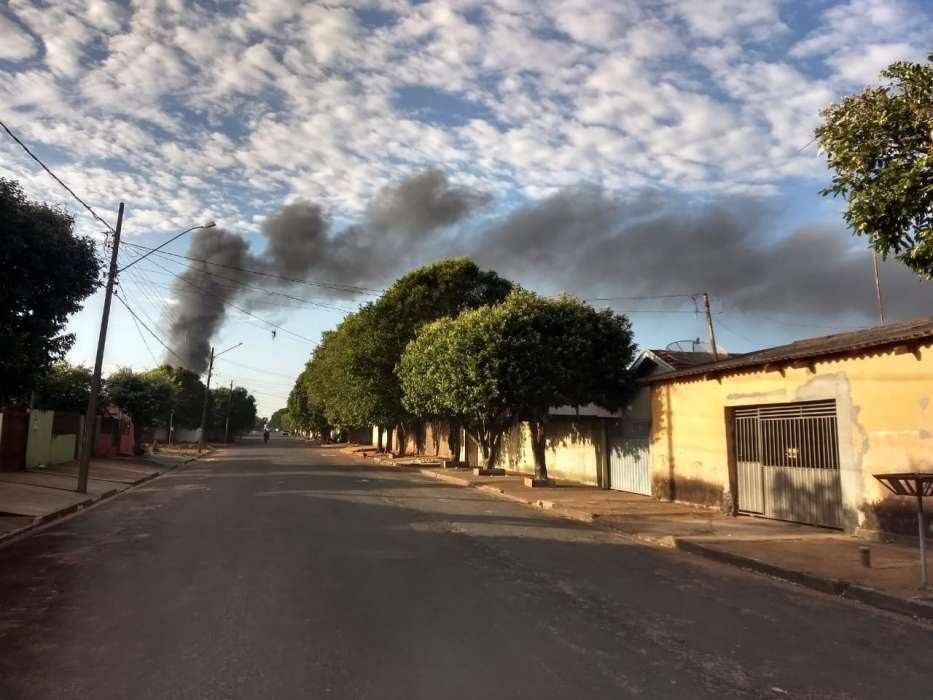smoke: (537, 220, 760, 278), (272, 222, 418, 270), (177, 273, 217, 370)
